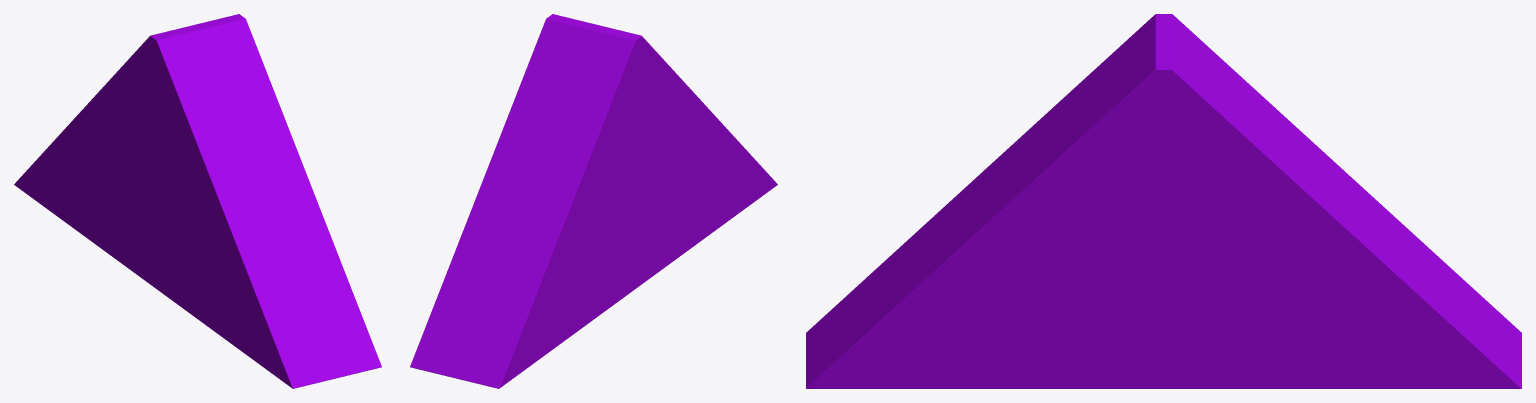
Rendered from Wood_Toy_01.fbx.
The picture shows the model from 3 angles, left to right: view 1: azimuth 30°, elevation 25°; view 2: azimuth 150°, elevation 25°; view 3: azimuth 270°, elevation 25°; orthographic projection. The views are drawn at different scales.
Parts seen in each view (by area): view 1: Wood_Toy_01; view 2: Wood_Toy_01; view 3: Wood_Toy_01.
Boxes of the visible parts, x1,y1,x2,y2 form: Wood_Toy_01: (14, 14, 381, 388); Wood_Toy_01: (410, 14, 777, 388); Wood_Toy_01: (806, 14, 1521, 388).
Bounding box in the file's own units: 24.06 × 64 × 130.
